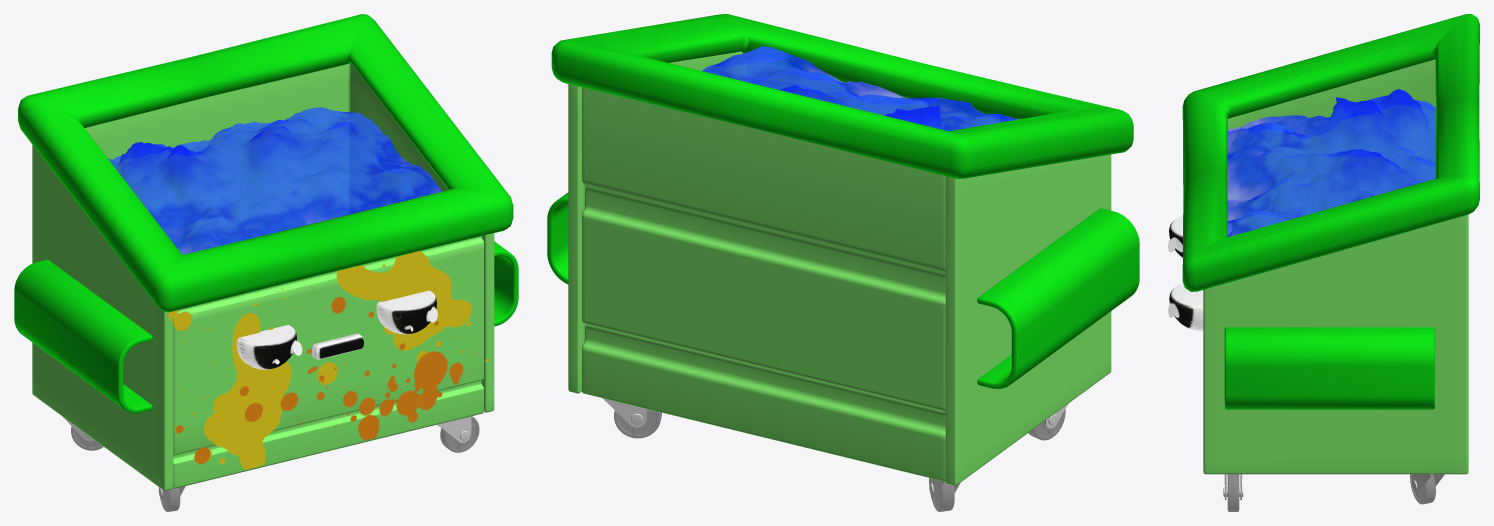
The picture shows the model from 3 angles, left to right: view 1: azimuth 30°, elevation 25°; view 2: azimuth 150°, elevation 25°; view 3: azimuth 270°, elevation 25°; orthographic projection. The views are drawn at different scales.
Visible parts, largest first — view 1: Dumpster Geometry, Explosion Fire Base.002, Wheel Holder; view 2: Dumpster Geometry, Explosion Fire Base.002, Wheel Holder; view 3: Dumpster Geometry, Explosion Fire Base.002, Wheel Holder.
Part boxes in pixels (x1=…): Dumpster Geometry: x1=14, y1=14, x2=518, y2=511; Explosion Fire Base.002: x1=108, y1=107, x2=441, y2=254; Wheel Holder: x1=62, y1=416, x2=471, y2=500; Dumpster Geometry: x1=547, y1=14, x2=1139, y2=511; Explosion Fire Base.002: x1=702, y1=46, x2=1019, y2=131; Wheel Holder: x1=602, y1=398, x2=1068, y2=498; Dumpster Geometry: x1=1168, y1=14, x2=1479, y2=511; Explosion Fire Base.002: x1=1227, y1=89, x2=1435, y2=236; Wheel Holder: x1=1223, y1=474, x2=1444, y2=500.
Size of what is drawn, in the model's own units: 2.3 by 1.89 by 1.56.
8 materials, 4 textured.
